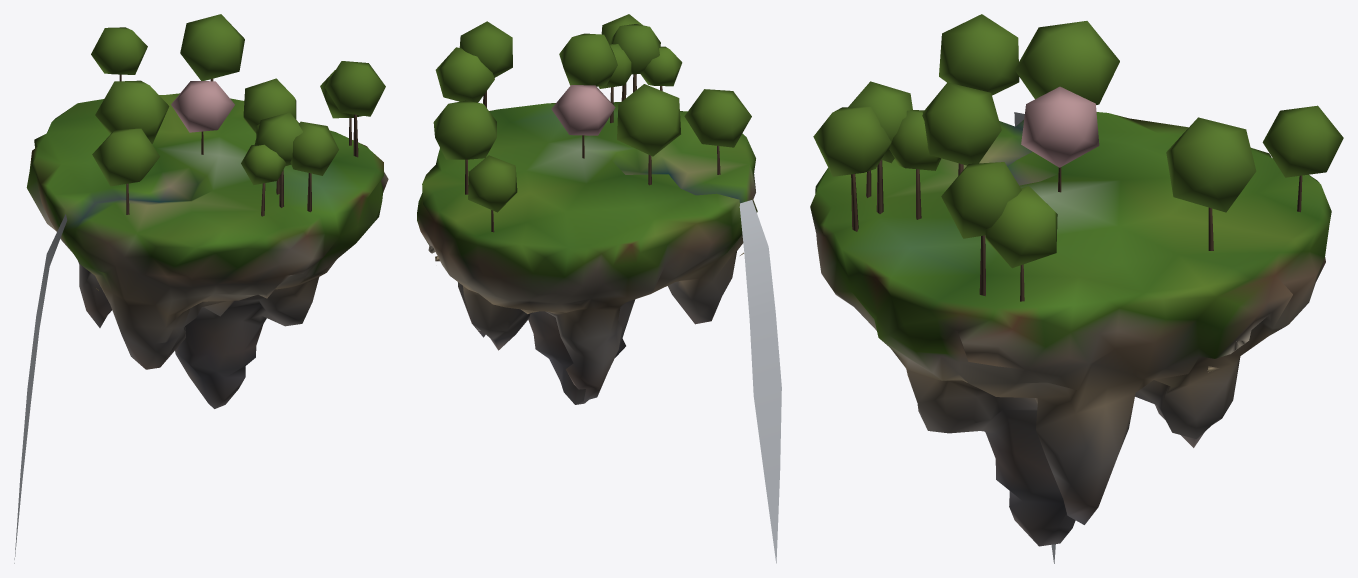
File: island-meadow-lod2.glb
3 views of the same model, side by side, from view 1: azimuth 30°, elevation 25°; view 2: azimuth 150°, elevation 25°; view 3: azimuth 270°, elevation 25° (orthographic). The views are drawn at different scales.
Parts seen in each view (by area): view 1: Silhouette; view 2: Silhouette; view 3: Silhouette.
Boxes of the visible parts, x1,y1,x2,y2 form: Silhouette: (14, 14, 388, 563); Silhouette: (417, 14, 781, 563); Silhouette: (810, 14, 1343, 563).
Size of the model in its own units: 45.84 by 56.23 by 43.56.
